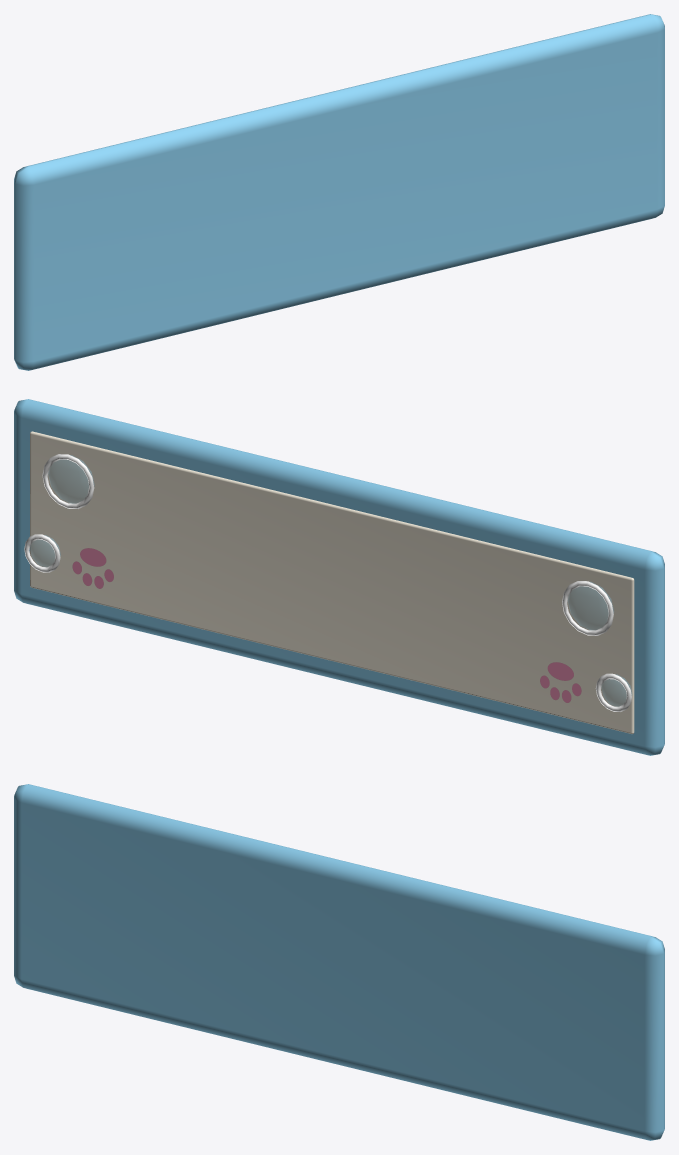
File: sign_outside.glb
The picture shows the model from 3 angles, top to bottom: view 1: azimuth 30°, elevation 25°; view 2: azimuth 150°, elevation 25°; view 3: azimuth 330°, elevation 25°; orthographic projection.
Parts seen in each view (by area): view 1: Body; view 2: Body; view 3: Body.
Part boxes in pixels (x1,y1,x2,y2): Body: [14, 14, 664, 370]; Body: [14, 399, 664, 755]; Body: [14, 784, 664, 1140].
Bounding box in the file's own units: 2 × 0.6 × 0.1.
5 materials, 5 textured.
